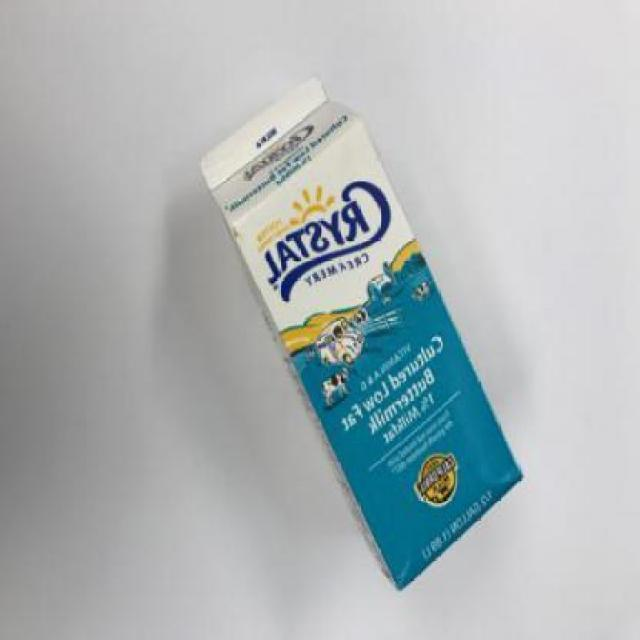box: (202, 74, 526, 591)
